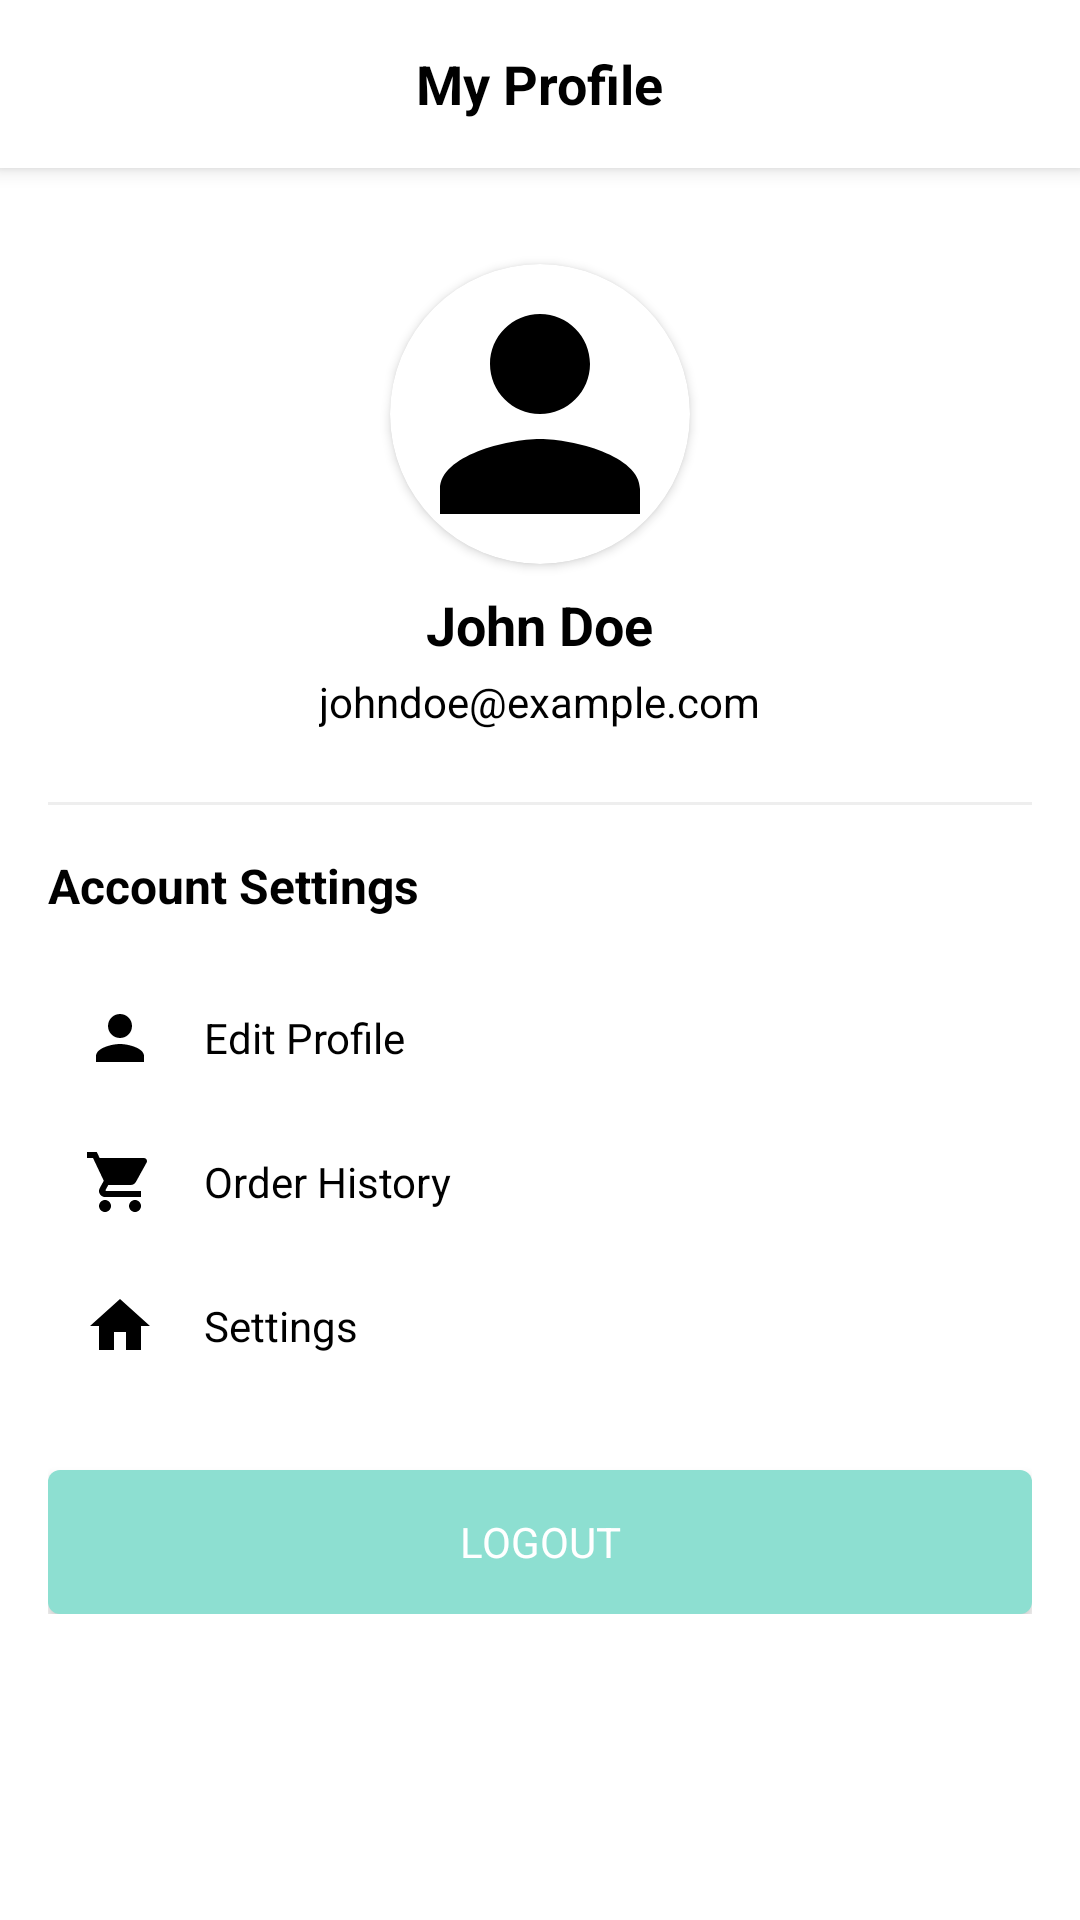

Point at icon controls on the screen. Image size 1080 x 1920, points as [x,y].
cart: [117,1182]
home: [120,1324]
